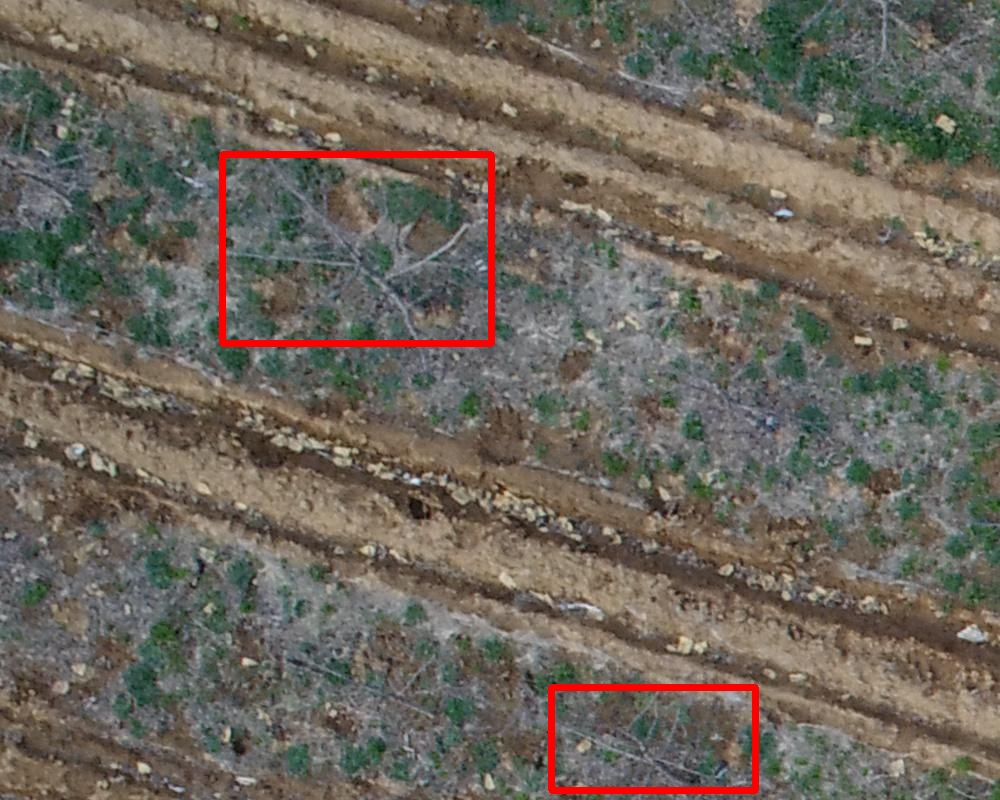apple: (222, 154, 491, 343), (551, 687, 755, 790)
